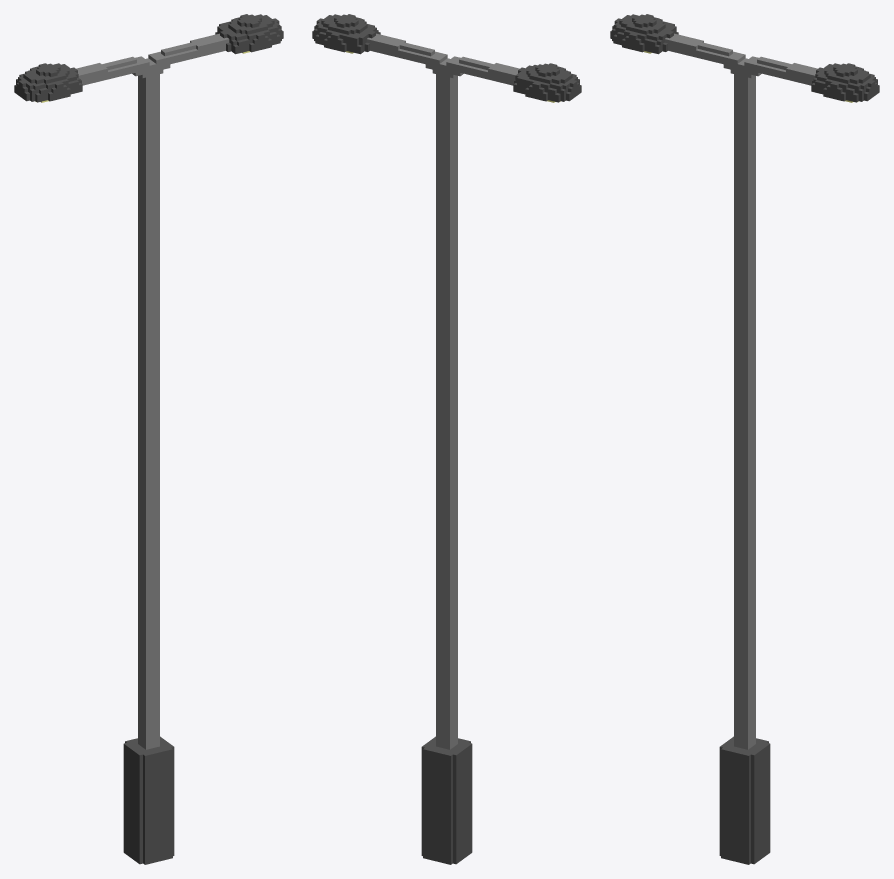
File: Lampadaire.vox.obj
3 renders of one model, left to right at view 1: azimuth 30°, elevation 25°; view 2: azimuth 150°, elevation 25°; view 3: azimuth 330°, elevation 25°, orthographic.
Size of the model in its own units: 7.4 by 22.3 by 1.2.
1 material, 1 textured.
